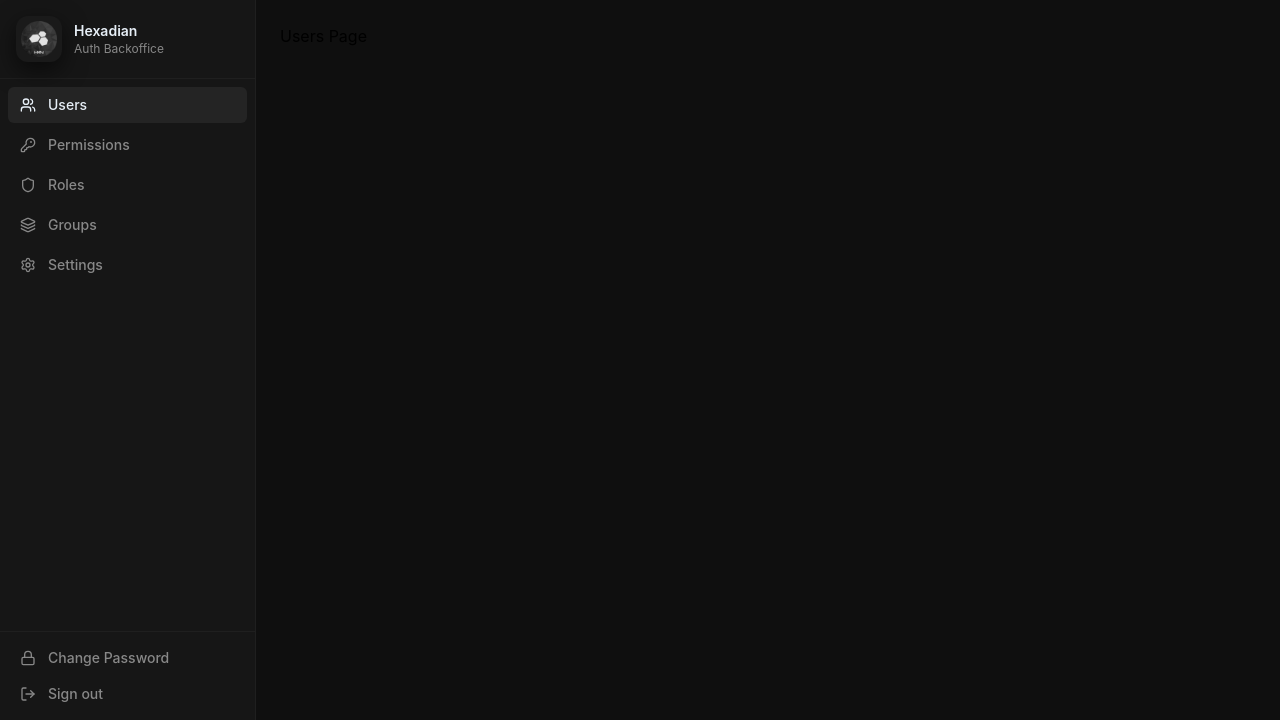
Test case: ChangePasswordDialog › opens dialog when clicking Change Password
Click the button "Change Password": click(128, 658) [8, 640, 247, 676]
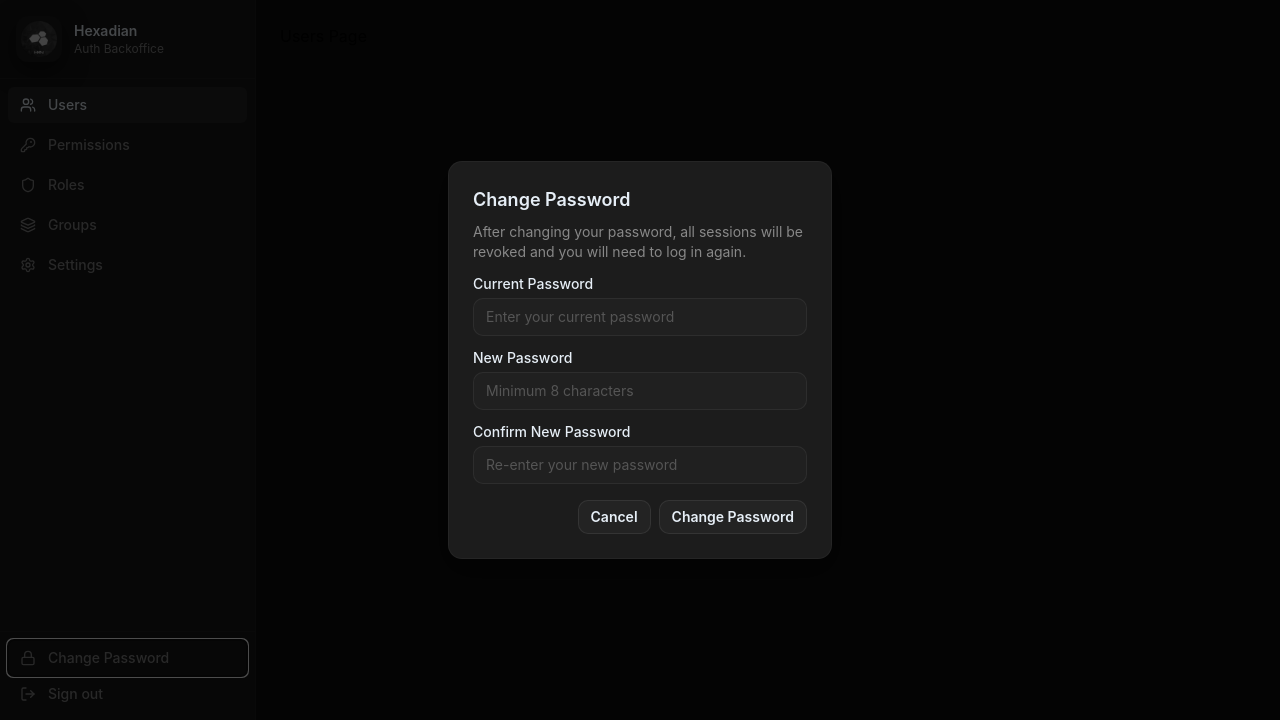
Now the password field labelled "Current Password" is shown, box [473, 298, 807, 336]
Now the password field labelled "New Password" is shown, box [473, 372, 807, 410]
Now the password field labelled "Confirm New Password" is shown, box [473, 446, 807, 484]
